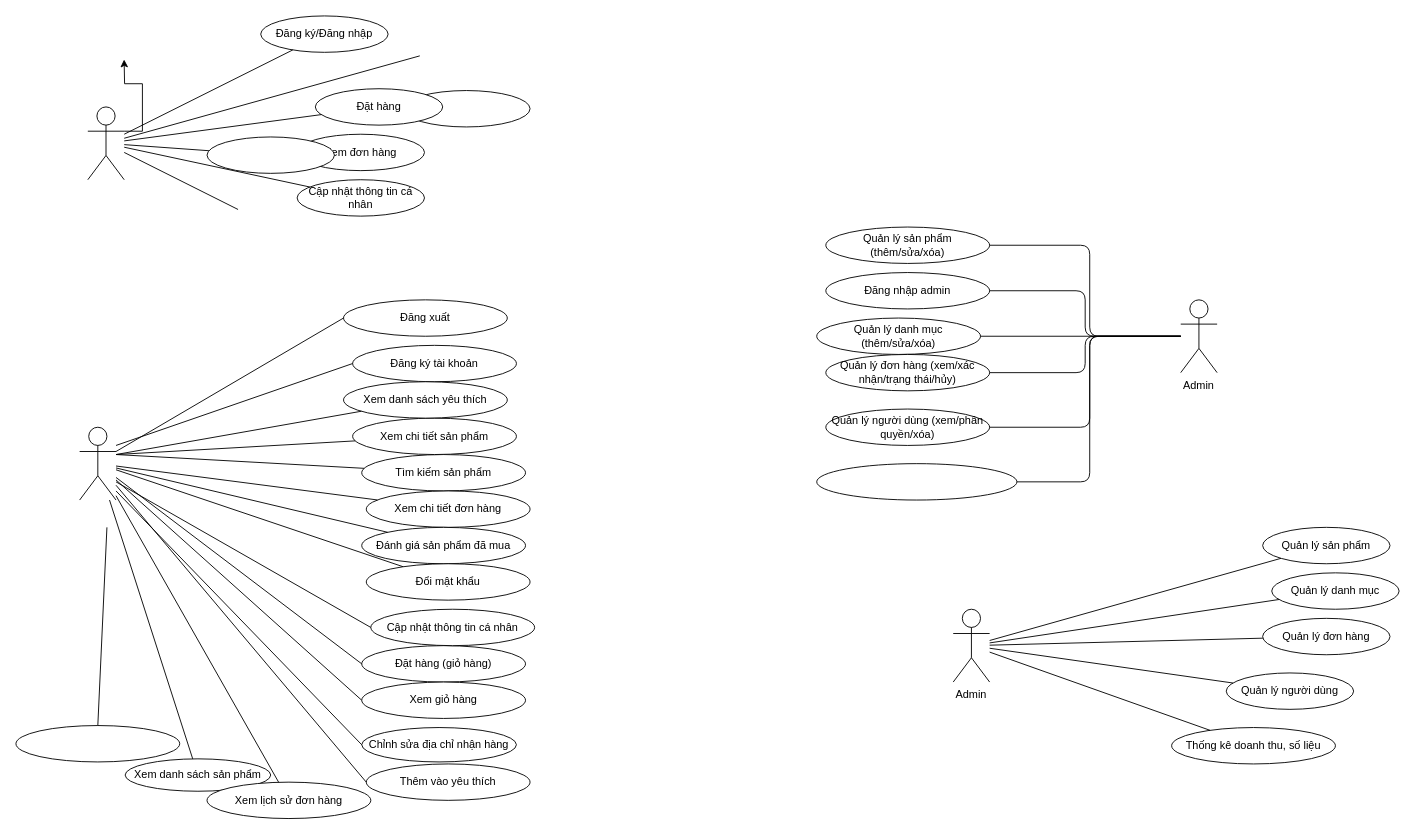
The diagram is 1415 pixels wide and 834 high, and some of its shapes have lost their labels. Each missing label, with the centre of its shape:
"Người dùng (Client)" belongs at pixel 97 463.
"User" belongs at pixel 105 143.
"Xem thống kê doanh thu, đơn hàng, sản phẩm, người dùng" belongs at pixel 916 481.
"Xem/tìm kiếm sản phẩm" belongs at pixel 466 108.
"Đánh giá sản phẩm" belongs at pixel 270 154.
"Đăng nhập" belongs at pixel 97 743.
